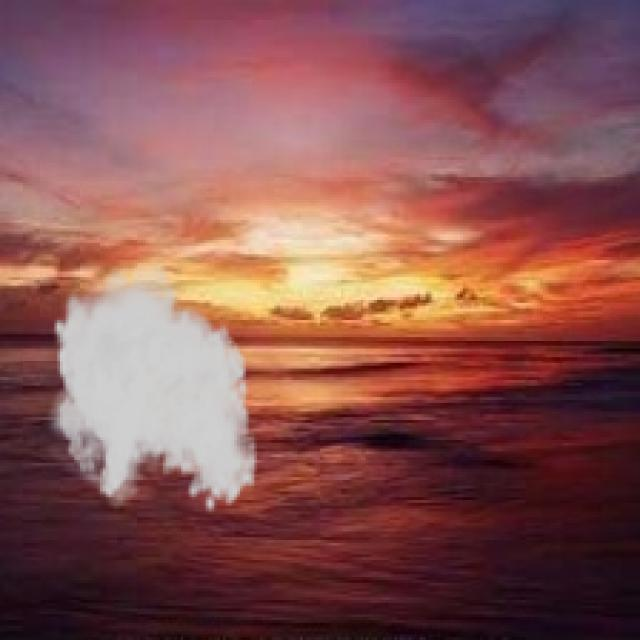smoke: (40, 257, 260, 514)
